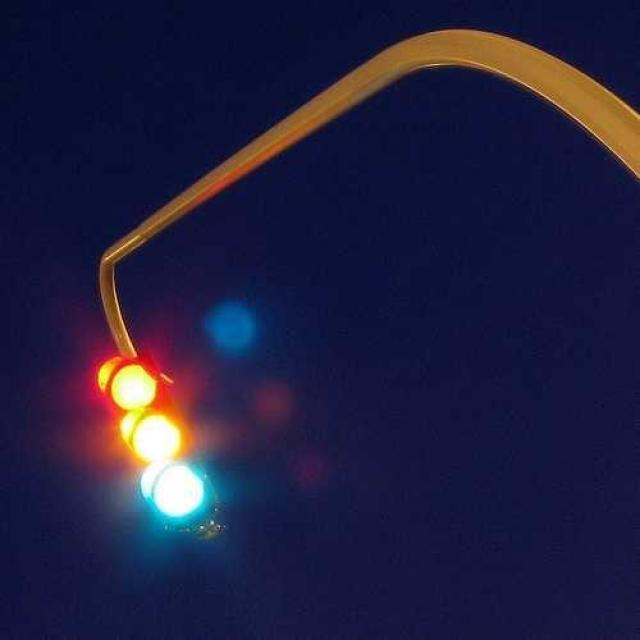Traffic Light -Green-: (128, 462, 217, 523)
Traffic Light -Red-: (95, 356, 174, 411)
Traffic Light -Yellow-: (117, 416, 189, 460)
